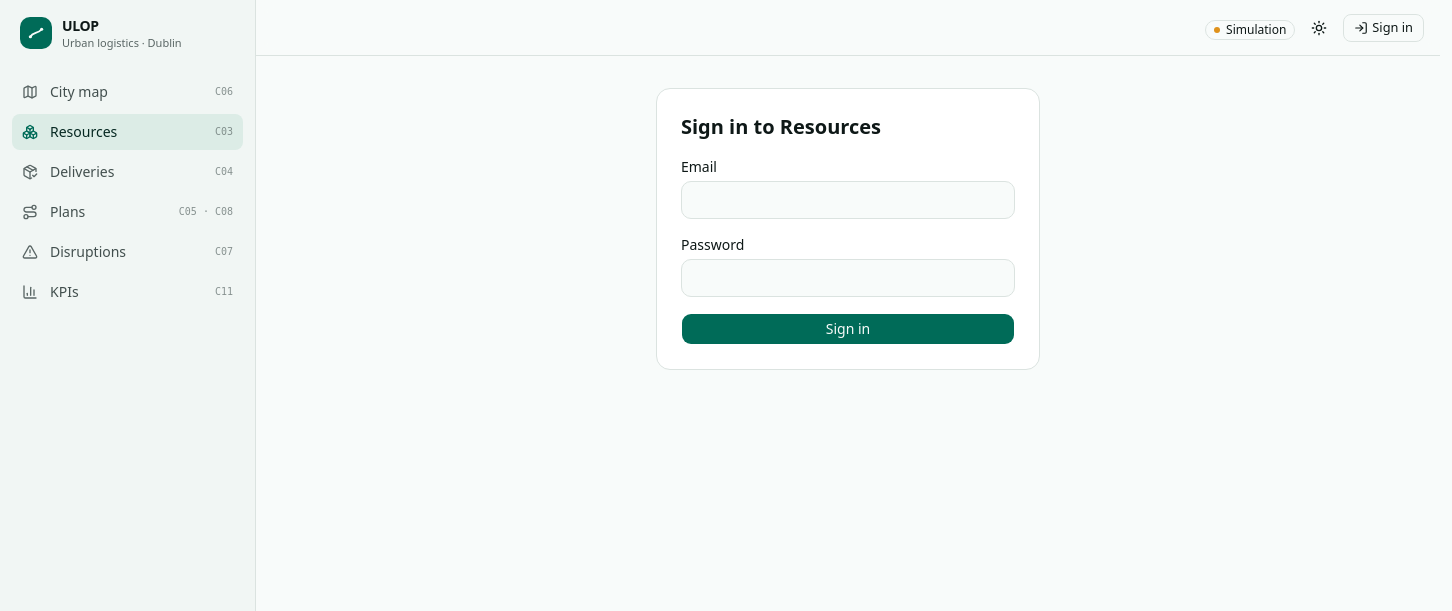
signs in, limits registration by role, and clears the workspace on sign-out
In the field labelled "Email": [848, 200] box [681,181,1015,219], type "manager@example.test"
In the password field labelled "Password": [848, 278] box [681,259,1015,297], type "synthetic-password"
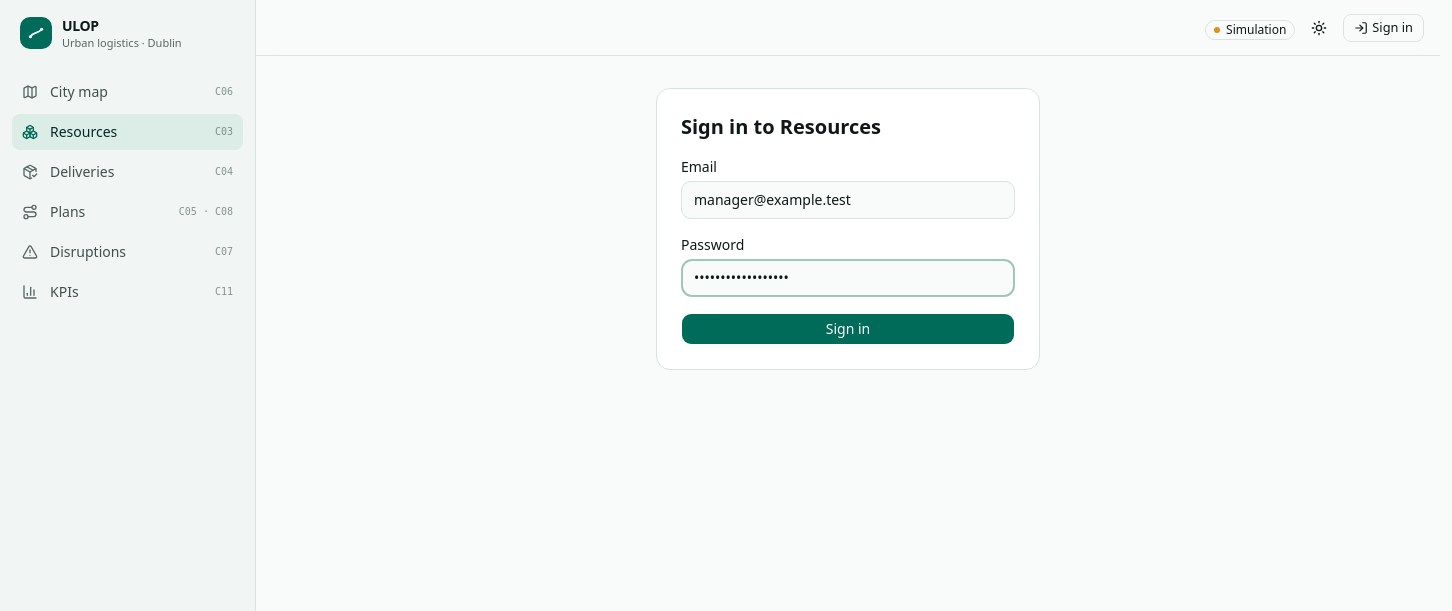
Click the button "Sign in" below "Password": [848, 329] box [681,313,1015,345]
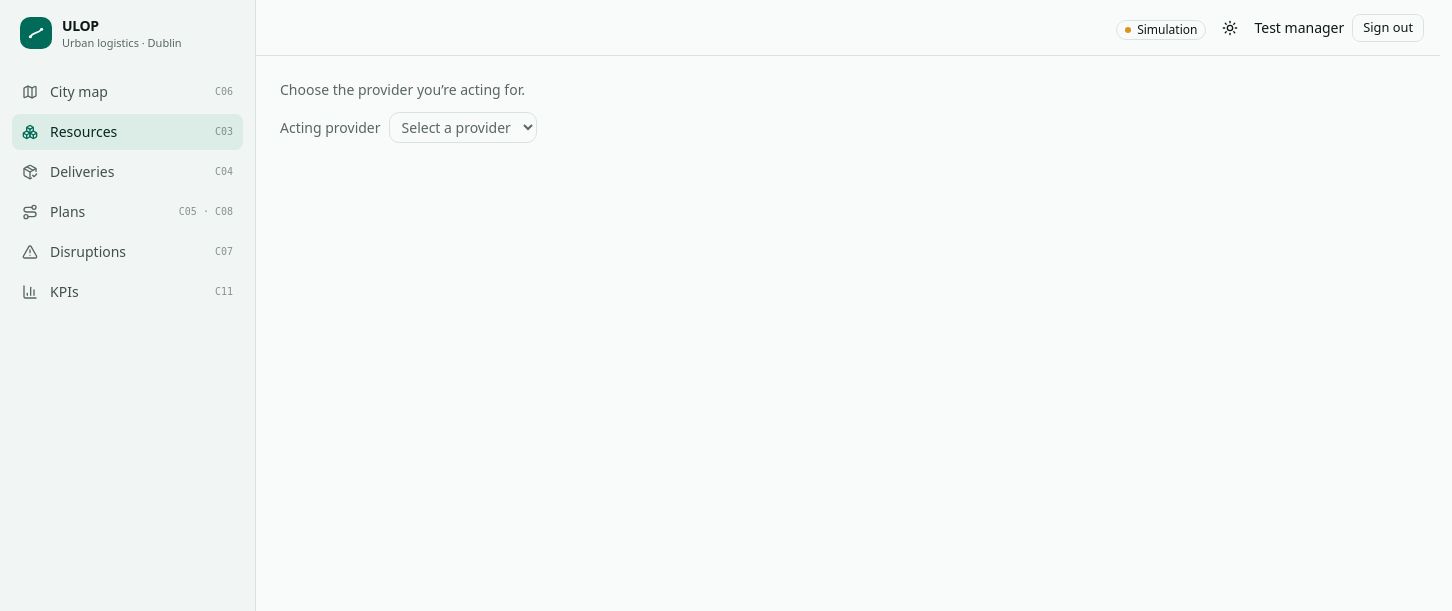
Expected: the text "Scoped van" is not shown
Select "Provider B" in the dropdown labelled "Acting provider": [463, 128] box [389,112,537,143]
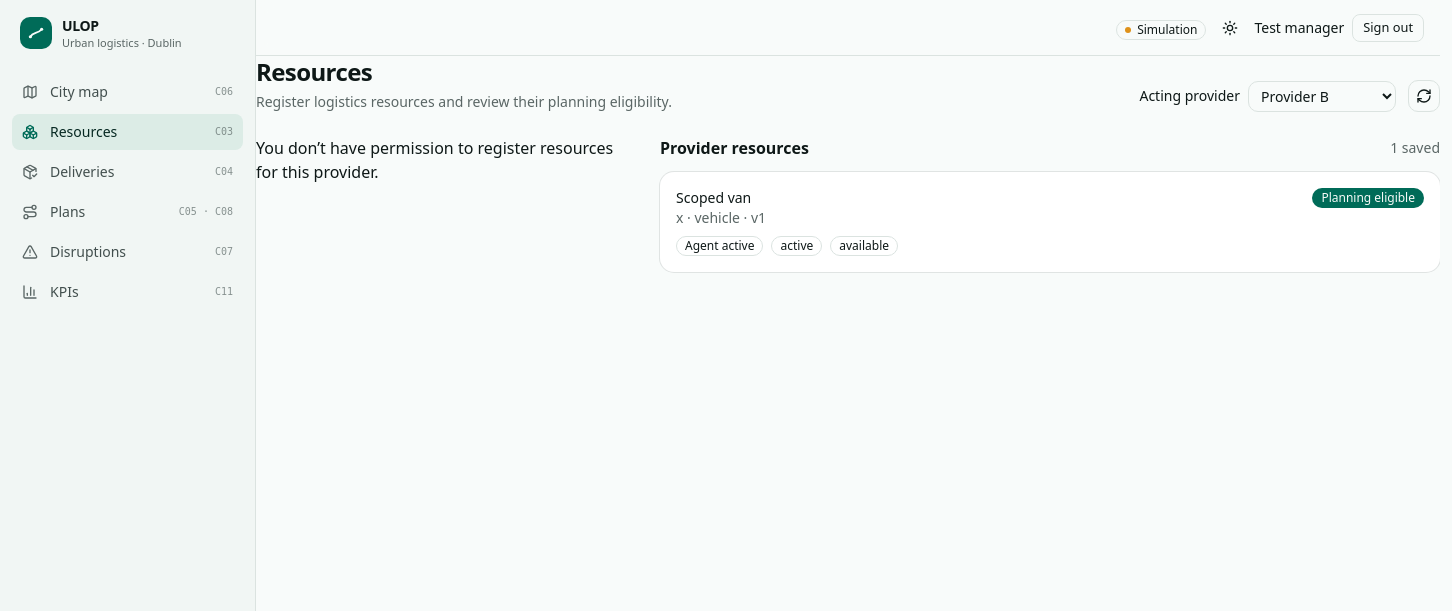
Expected: the text "Scoped van" is shown, [676,188,751,207]
the picker moves into the page header once a provider is chosen
Select "Provider A" in the dropdown labelled "Acting provider": [1322, 96] box [1248,80,1396,112]
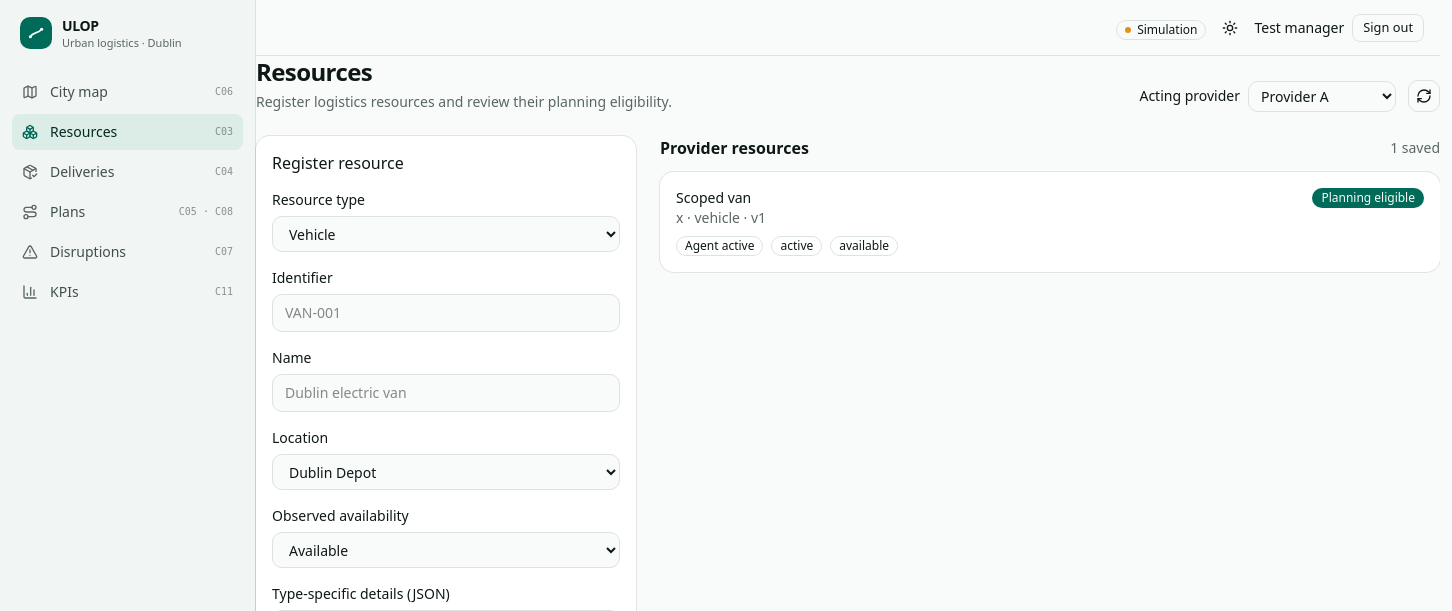
In the field with placeholder "VAN-001": [446, 313] box [272,294,620,332], type "draft"
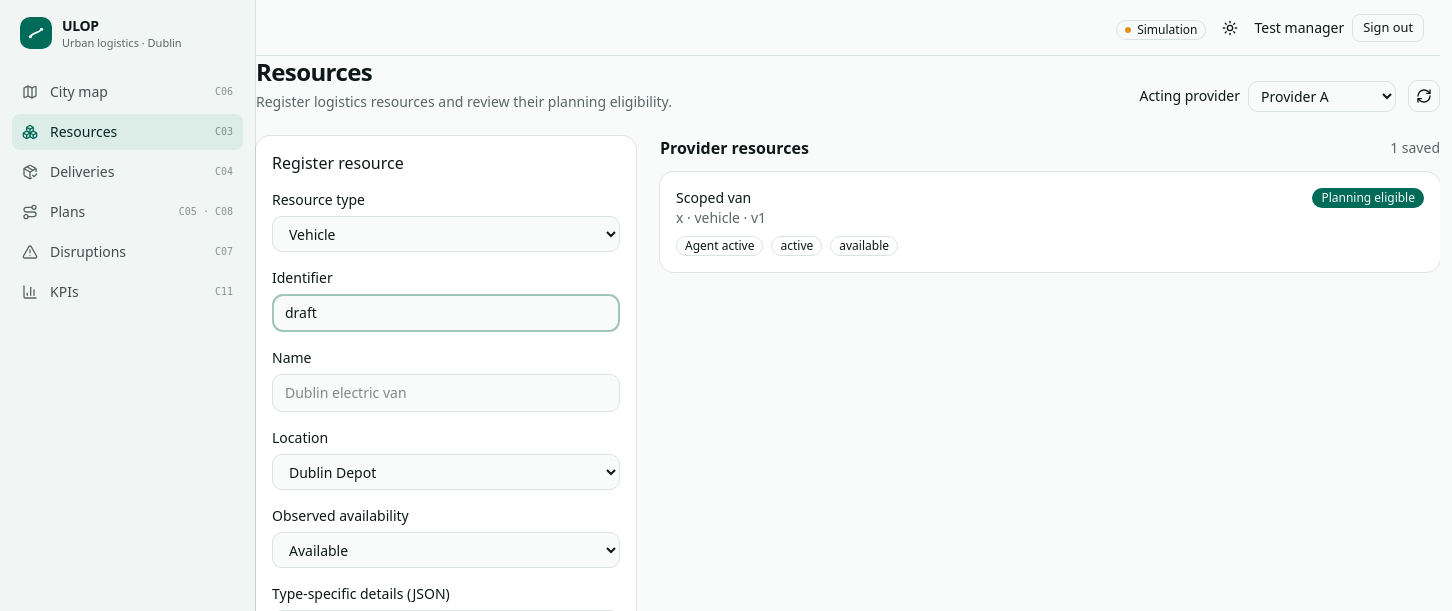
Click the button "Sign out": [1388, 28] box [1352,14,1424,42]
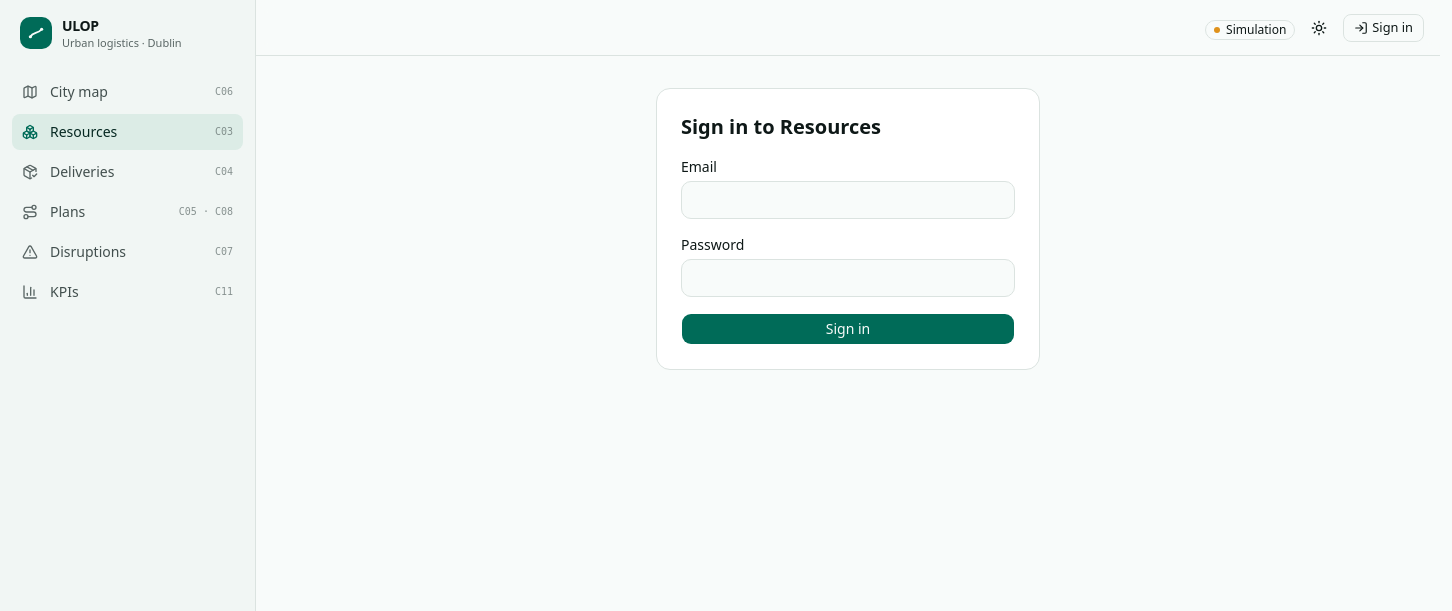
Expected: the field showing "draft" is not shown
Expected: the field labelled "Email" is shown, [681,181,1015,219]
Expected: the text "Scoped van" is gone
